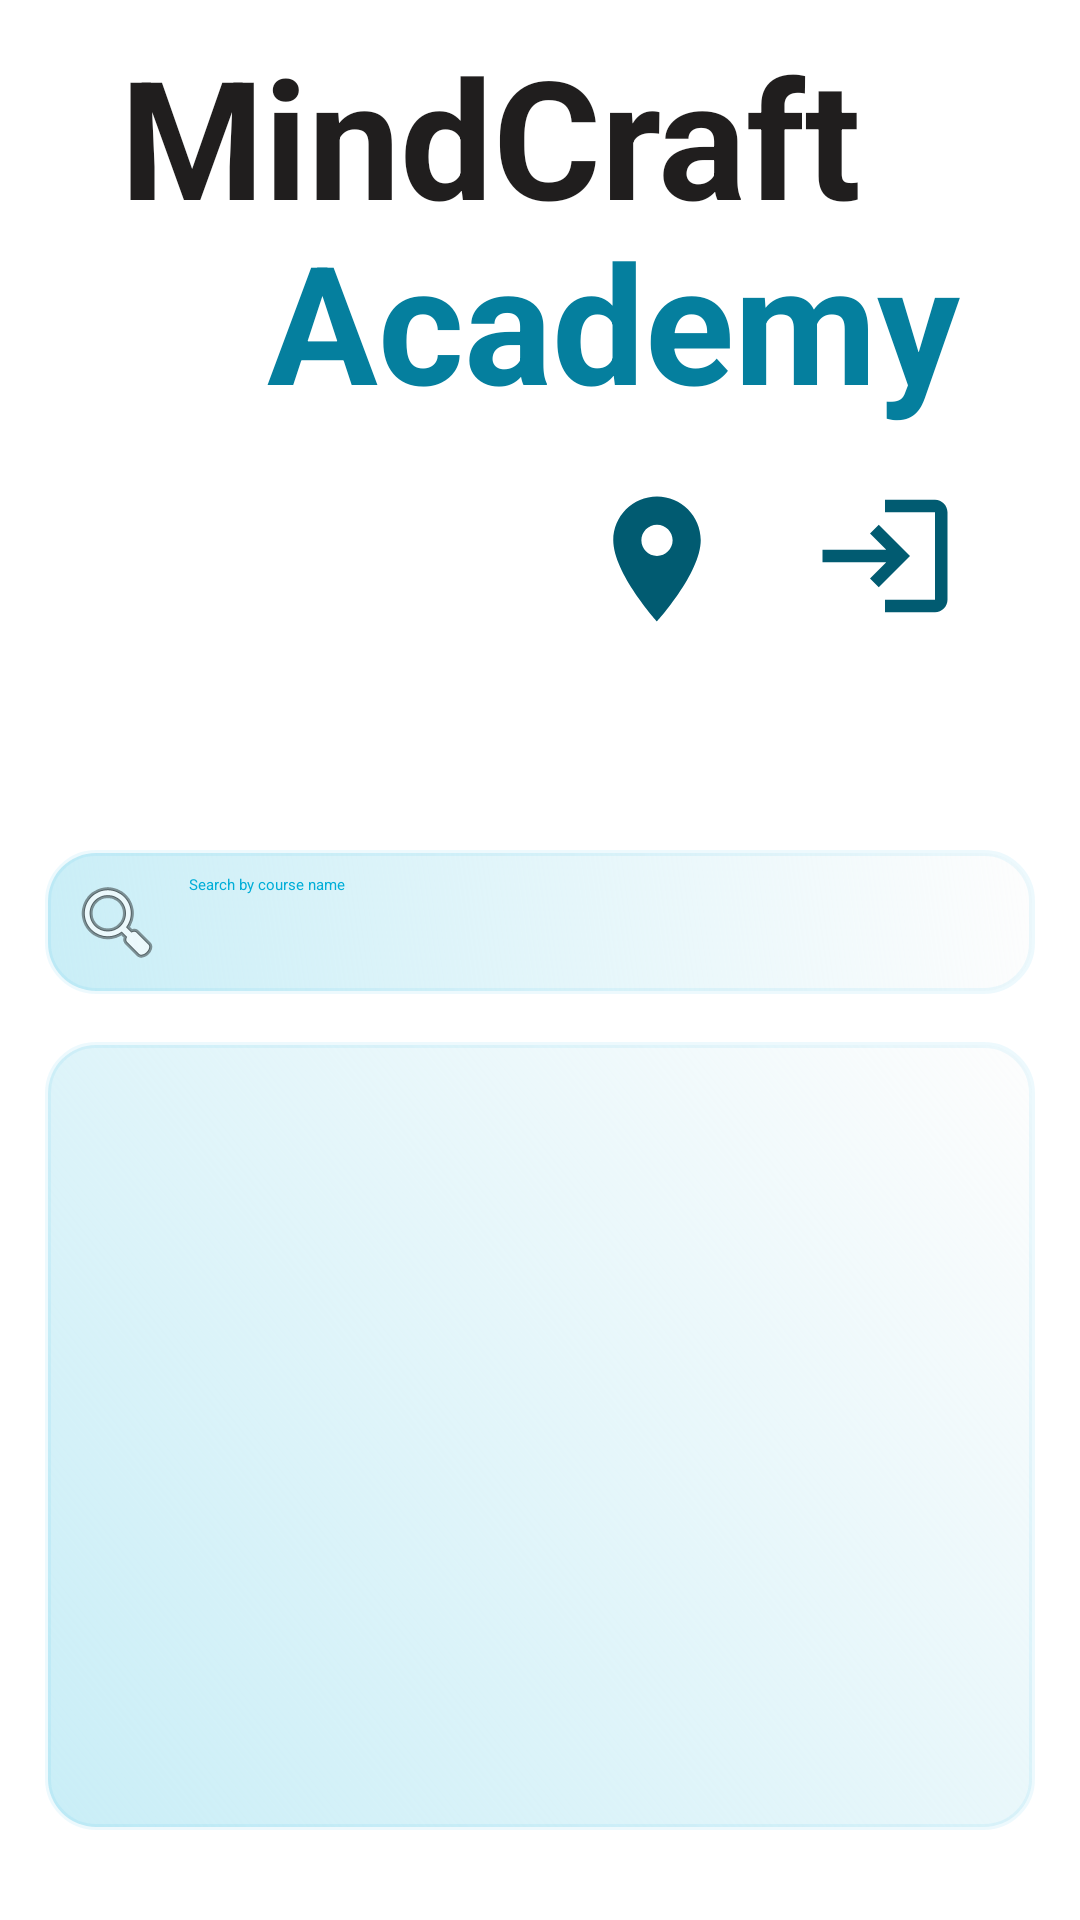

Named icons in this screenshot (1080px x 1920px) and their centers, point (x, y):
loacatin: point (657, 559)
login: point (885, 556)
